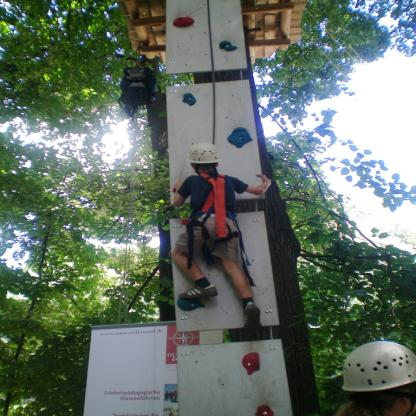Helmet: (348, 345, 410, 404), (188, 141, 218, 174)
